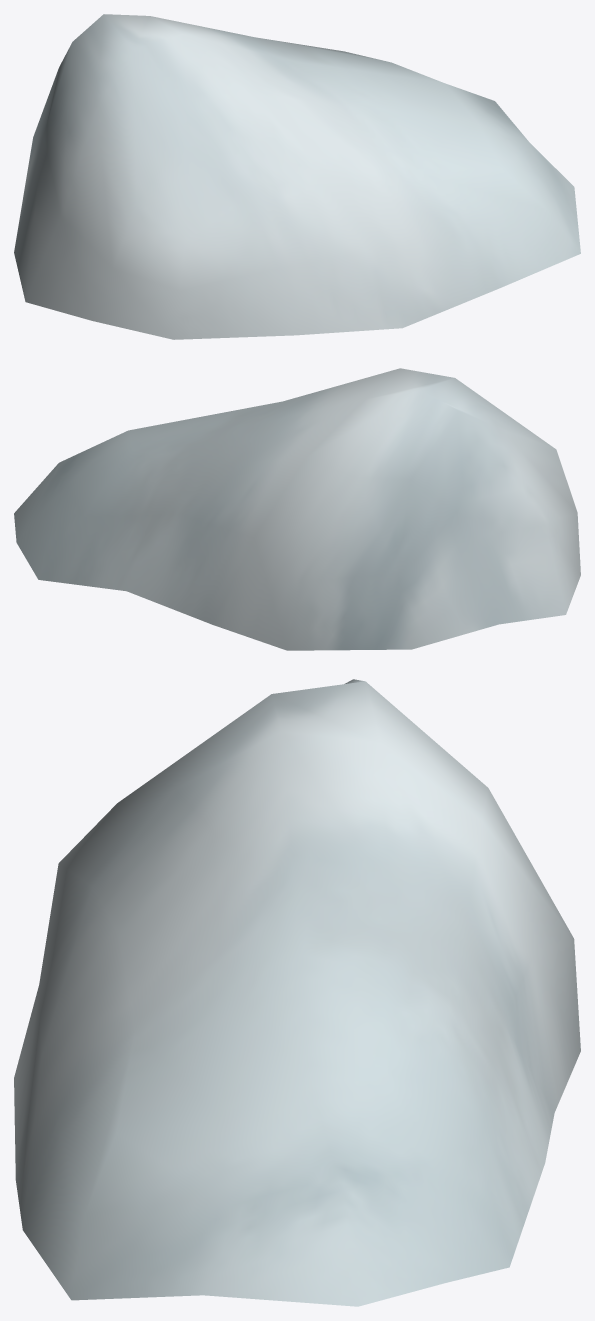
Rendered from Neve2.fbx.
3 views of the same model, one above another, from view 1: azimuth 30°, elevation 25°; view 2: azimuth 150°, elevation 25°; view 3: azimuth 270°, elevation 25° (orthographic). The views are drawn at different scales.
Parts seen in each view (by area): view 1: Neve2; view 2: Neve2; view 3: Neve2.
Part boxes in pixels (x1,y1,x2,y2): Neve2: (14, 14, 580, 339); Neve2: (14, 368, 580, 650); Neve2: (14, 679, 580, 1306).
Bounding box in the file's own units: 397 × 255 × 187.
